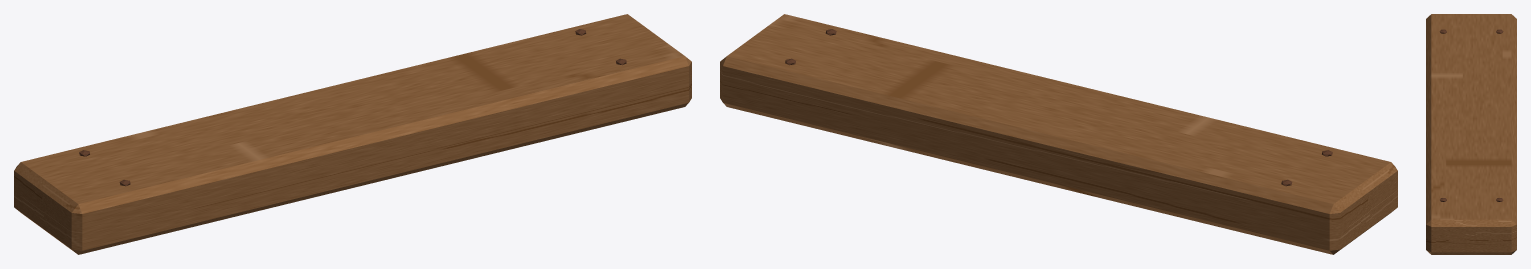
The model's file is bridge_board.glb.
3 renders of one model, left to right at view 1: azimuth 30°, elevation 25°; view 2: azimuth 150°, elevation 25°; view 3: azimuth 270°, elevation 25°, orthographic. The views are drawn at different scales.
Parts seen in each view (by area): view 1: BridgeBoard; view 2: BridgeBoard; view 3: BridgeBoard.
Part boxes in pixels (<box>): BridgeBoard: <box>14,14,691,254</box>; BridgeBoard: <box>720,14,1397,254</box>; BridgeBoard: <box>1426,14,1516,254</box>.
Size of the model in its own units: 2.3 by 0.193 by 0.42.
Materials: 2 (2 with a texture image).
